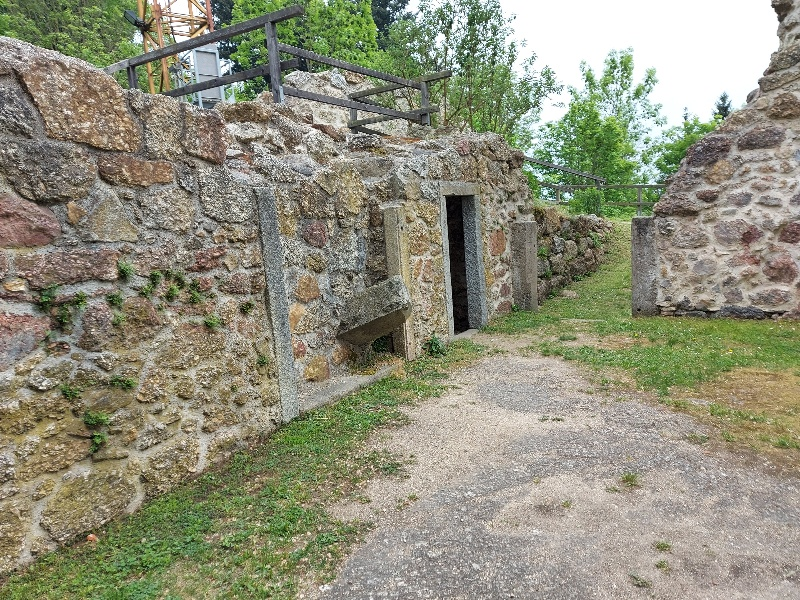door2: (428, 170, 500, 339)
